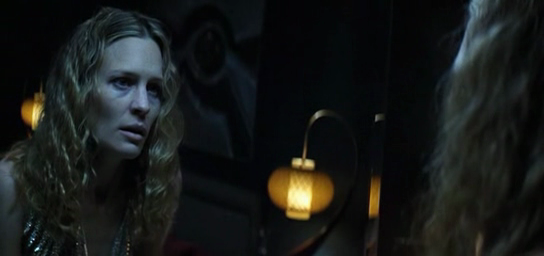face: (95, 51, 163, 157)
mcu: (1, 1, 544, 256)
ots: (423, 1, 544, 256)
person: (1, 1, 184, 256)
